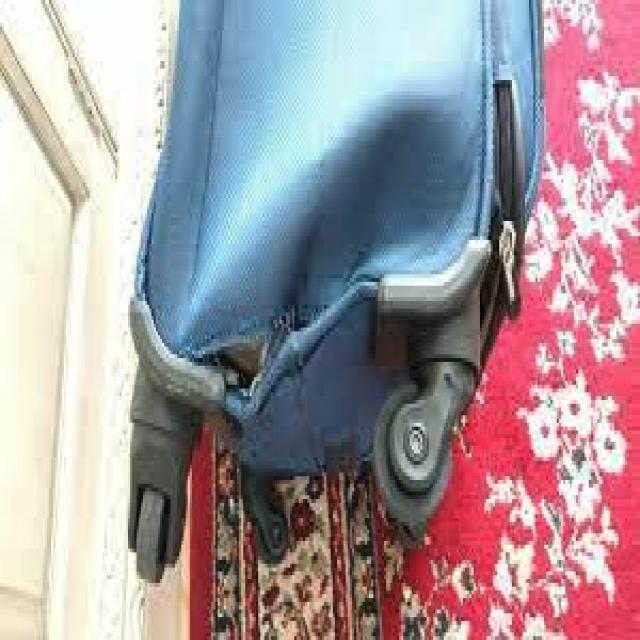Damage-bag: (179, 304, 321, 421), (138, 199, 154, 307)
